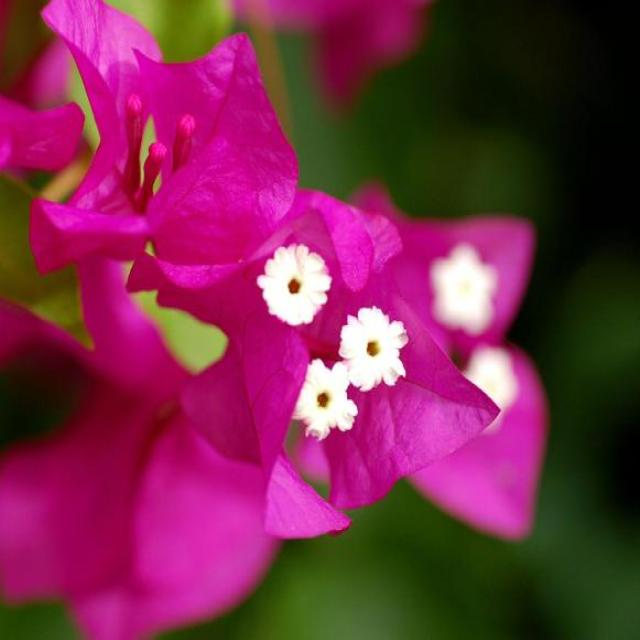bougainvillea: (10, 6, 592, 607)
